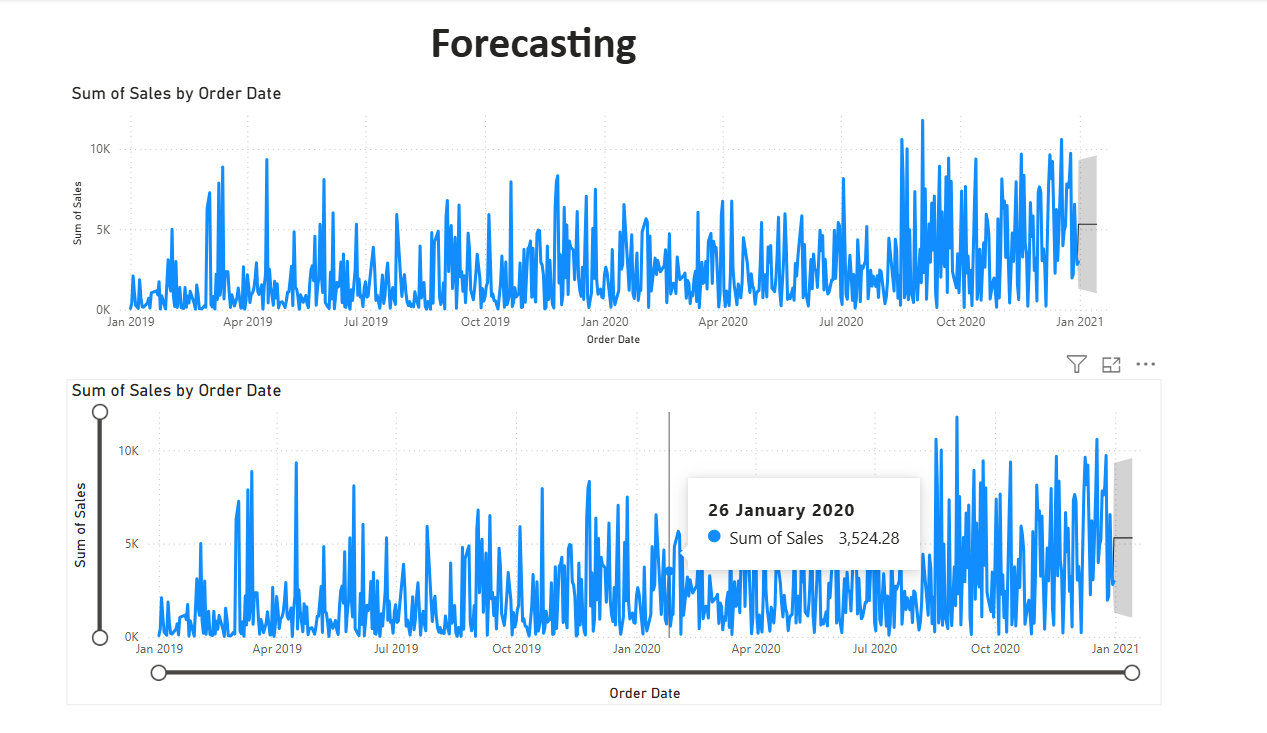

The page's visual inventory and layout, read from the dashboard file:
{"tool":"powerbi","page":{"name":"Page 2","canvas":[1280,720],"ordinal":1},"visuals":[{"type":"lineChart","fields":{"Y":["Sum(SuperStore_Sales_Dataset.Sales)"],"Category":["SuperStore_Sales_Dataset.Order Date"]},"box":[66,83.2,1037,261.7],"z":0},{"type":"lineChart","fields":{"Y":["Sum(SuperStore_Sales_Dataset.Sales)"],"Category":["SuperStore_Sales_Dataset.Order Date"]},"box":[66,373,1071.2,319.2],"z":1000},{"type":"textbox","box":[417,12.2,349.7,70.9],"z":2000}]}

Visuals, with their boxes in screenshot pixels (x1, y1, x2, y2), scaled from the page's 1280x720 canvas onto the 1267x733 screenshot:
lineChart - Sum(SuperStore_Sales_Dataset.Sales) x SuperStore_Sales_Dataset.Order Date: left=65, top=85, right=1092, bottom=351
lineChart - Sum(SuperStore_Sales_Dataset.Sales) x SuperStore_Sales_Dataset.Order Date: left=65, top=380, right=1126, bottom=705
textbox: left=413, top=12, right=759, bottom=85
